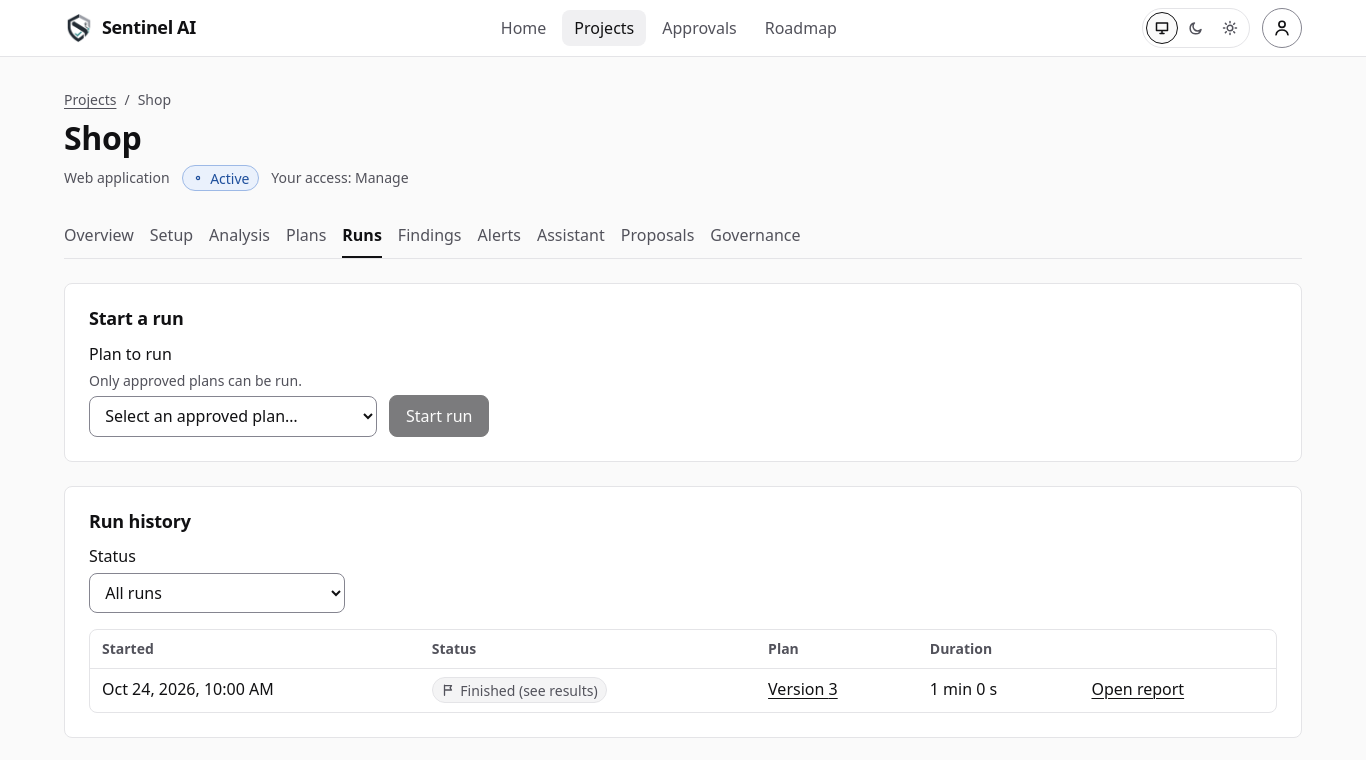
Scenario: runs page › offers only approved plans and starts a run, then opens its report
Expected: the button "Start run" is disabled, [389,395,490,436]
Step 1. Select "Version 3 · low risk" in the dropdown labelled "Plan to run" → (233, 416), box [89,396,377,436]
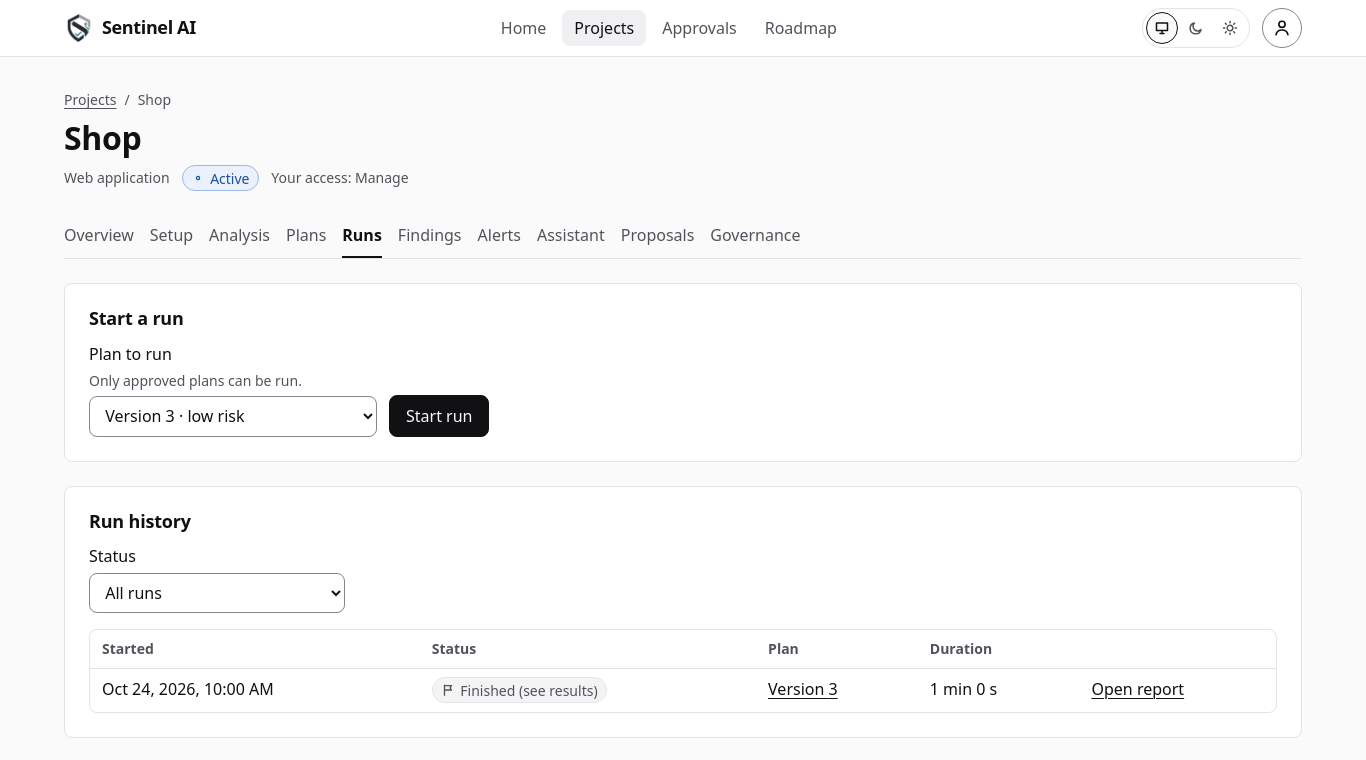
Step 2. Click the button "Start run" → (439, 416), box [389,395,490,436]
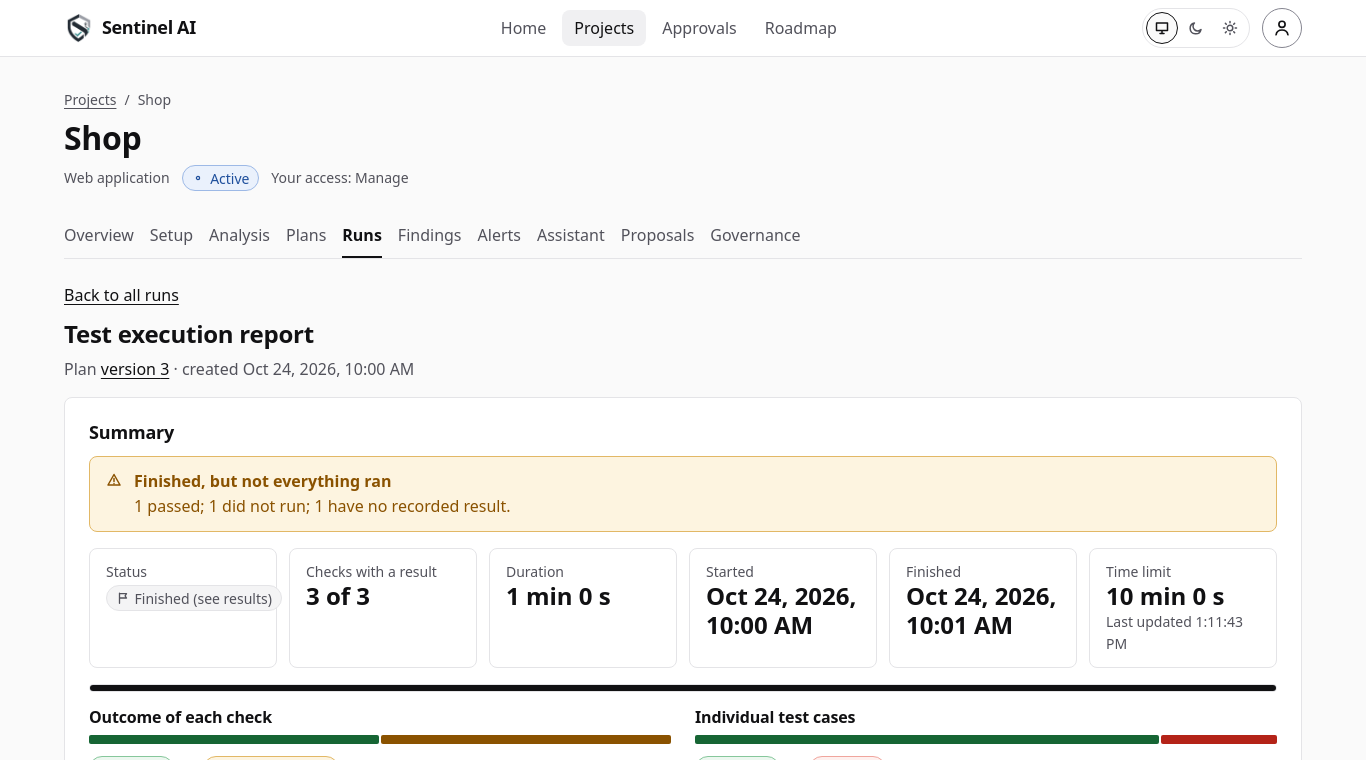
Expected: the heading "Test execution report" is shown, [64,317,314,350]
